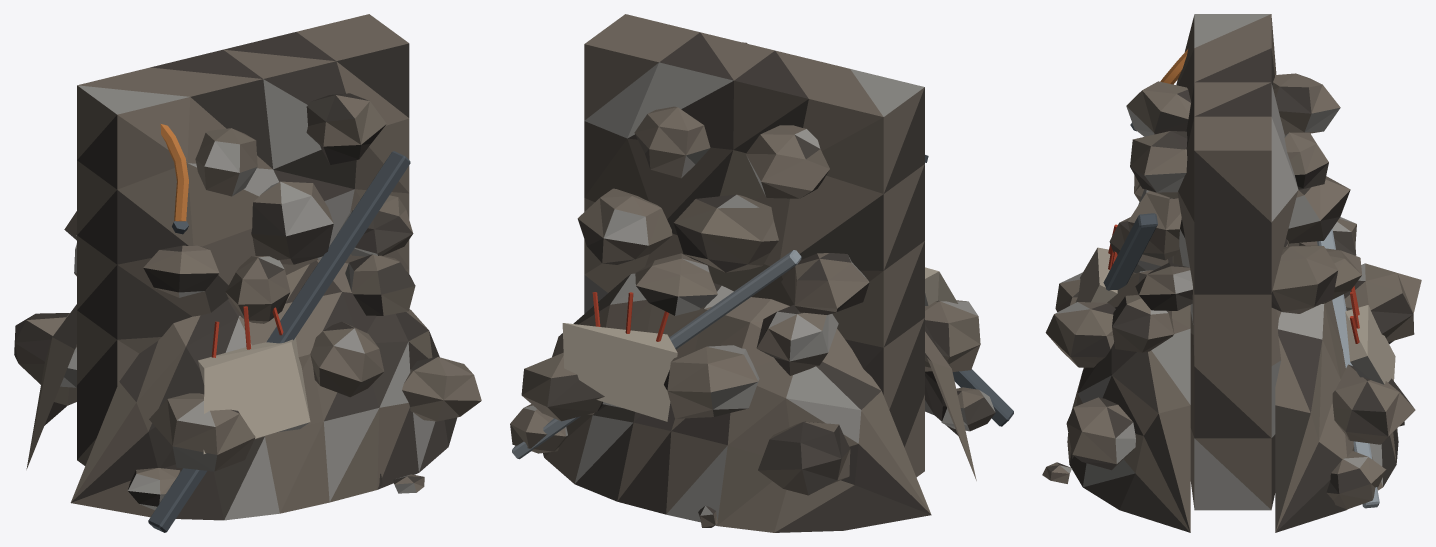
The model's file is Kit_Rubble_Doorway.fbx.
3 views of the same model, side by side, from view 1: azimuth 30°, elevation 25°; view 2: azimuth 150°, elevation 25°; view 3: azimuth 270°, elevation 25° (orthographic). The views are drawn at different scales.
Parts seen in each view (by area): view 1: Decor; view 2: Decor; view 3: Decor.
Part boxes in pixels (bbox=[...]): Decor: bbox=[14, 14, 481, 532]; Decor: bbox=[510, 14, 1013, 532]; Decor: bbox=[1042, 14, 1421, 532].
Size of the model in its own units: 11.2 by 10.42 by 9.86.
